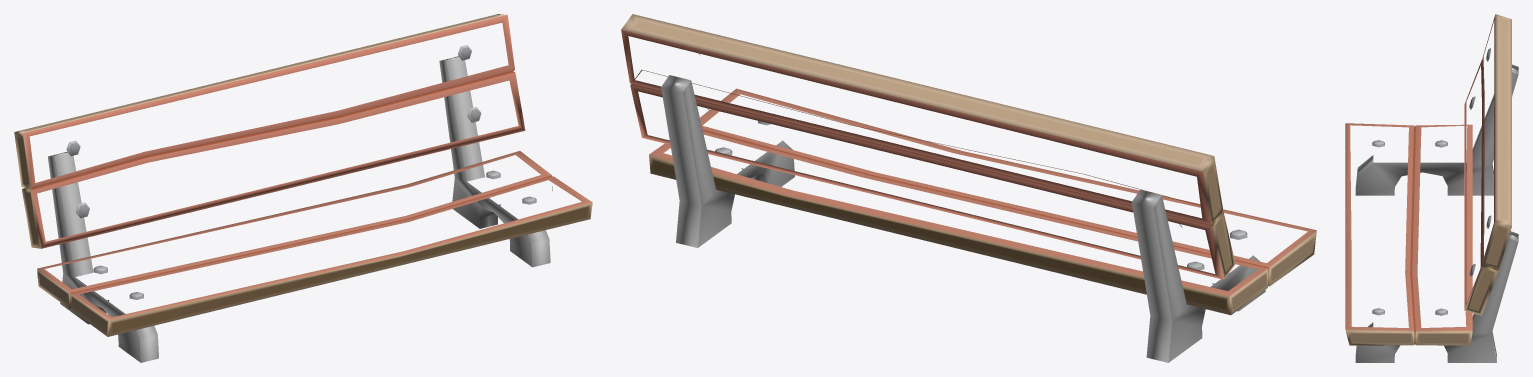
Rendered from TownBench_11.glb.
3 renders of one model, left to right at view 1: azimuth 30°, elevation 25°; view 2: azimuth 150°, elevation 25°; view 3: azimuth 270°, elevation 25°, orthographic. The views are drawn at different scales.
Parts seen in each view (by area): view 1: TownBench; view 2: TownBench; view 3: TownBench.
Part boxes in pixels (x1=…): TownBench: x1=14, y1=14, x2=592, y2=362; TownBench: x1=621, y1=14, x2=1316, y2=362; TownBench: x1=1345, y1=14, x2=1518, y2=362.
Bounding box in the file's own units: 1.81 × 0.6461 × 0.6413.
